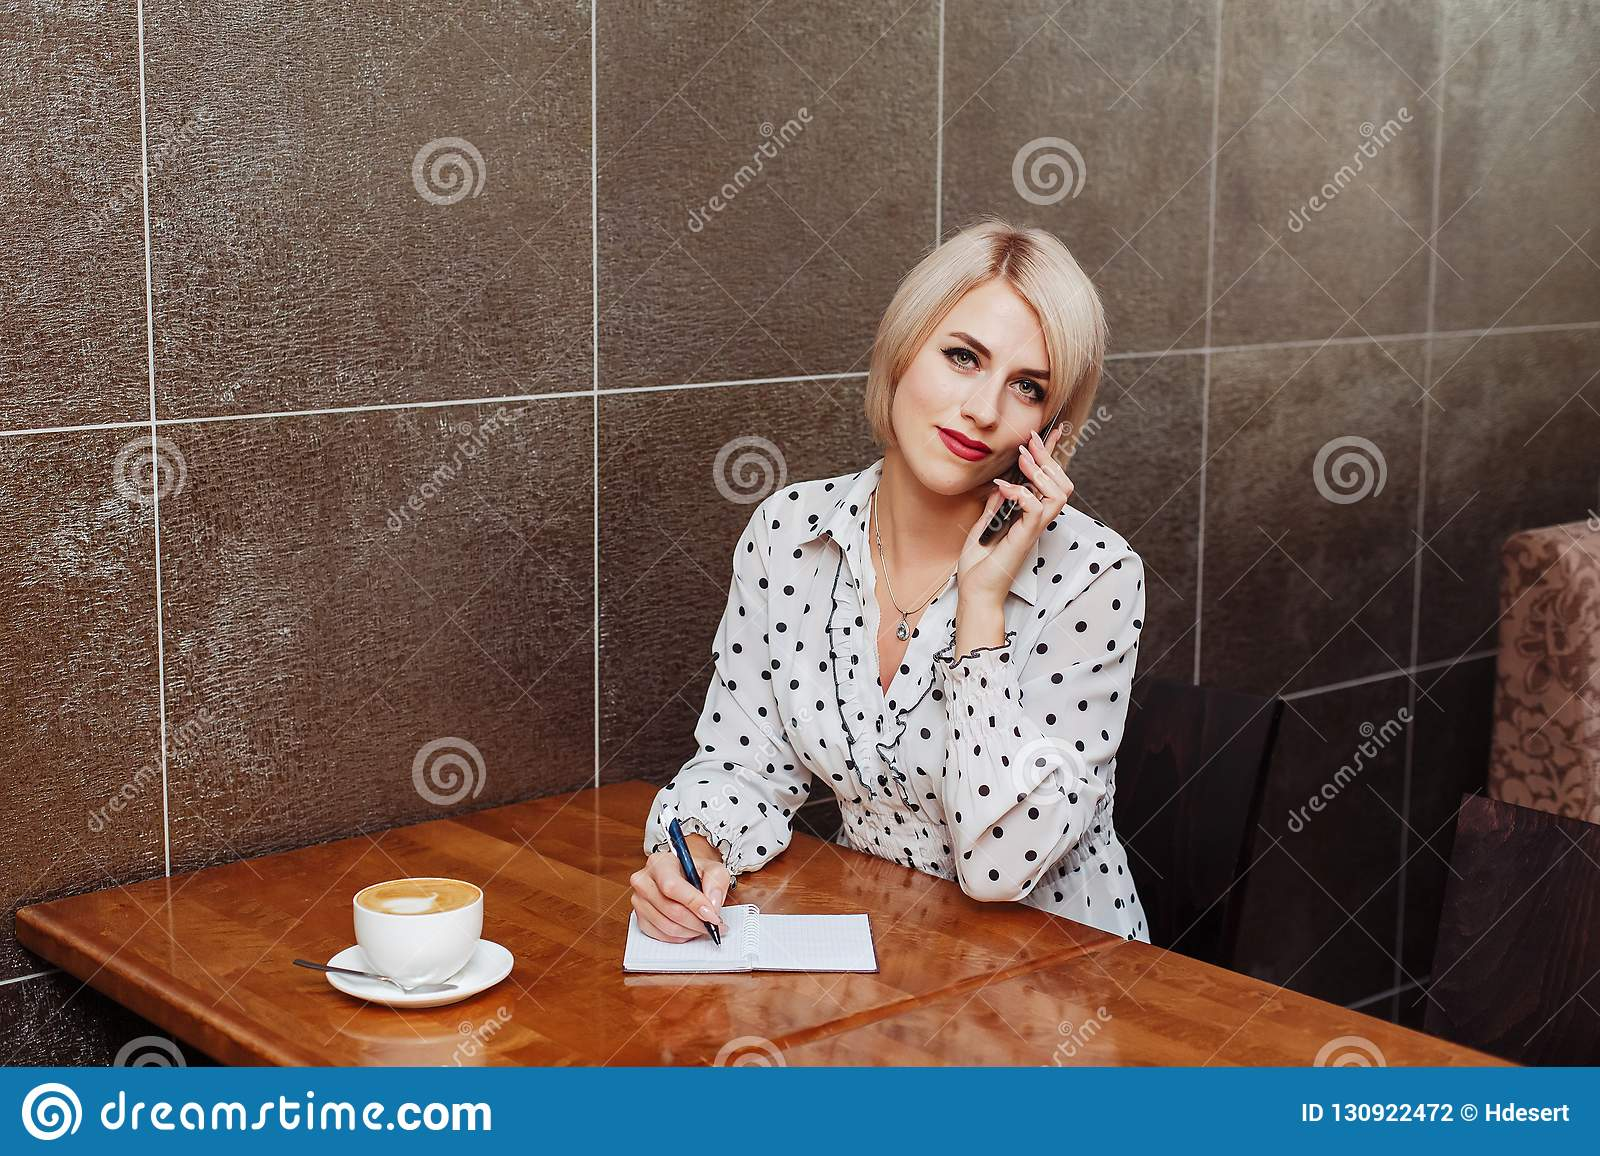phone: (981, 404, 1056, 559)
talk: (914, 322, 1071, 596)
